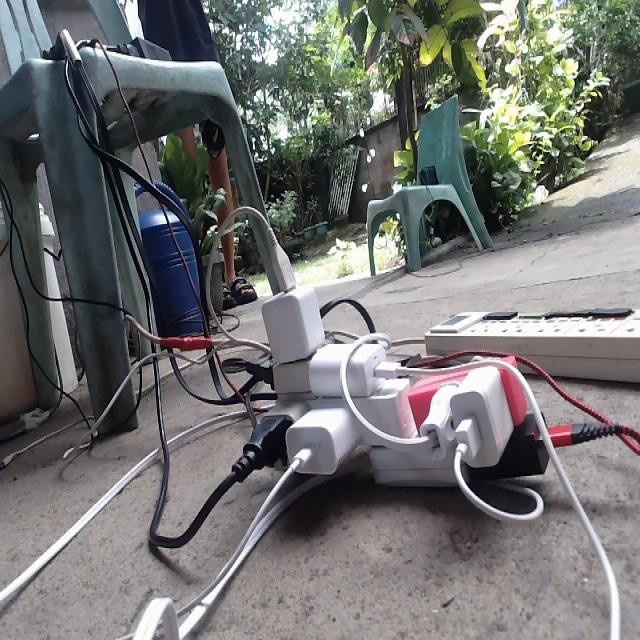-: (236, 229, 560, 483)
